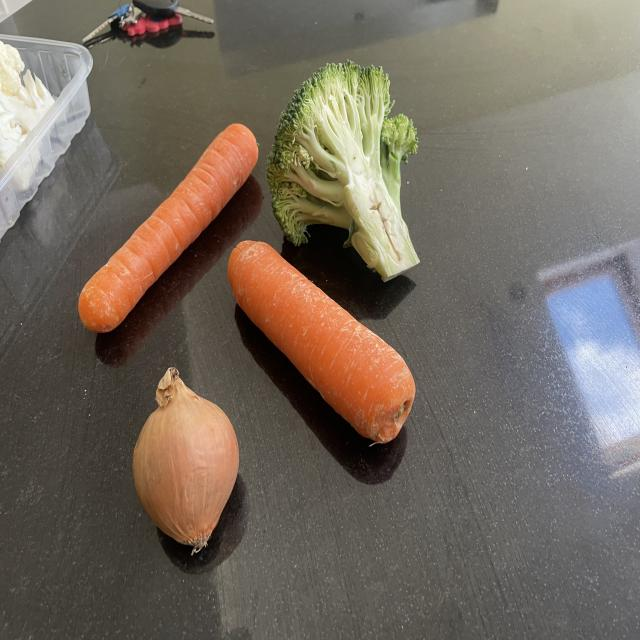Broccoli: (268, 58, 423, 284)
Carrot: (227, 235, 418, 448), (78, 120, 260, 336)
Onion: (131, 362, 243, 558)
